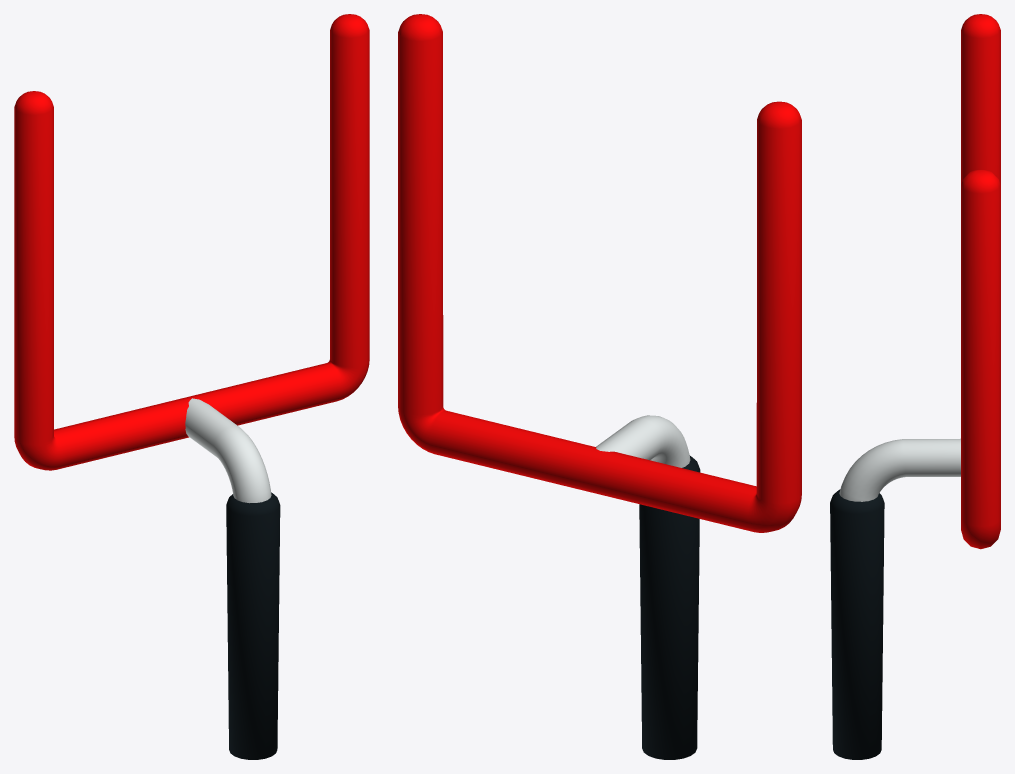
The model's file is SM_GoalPoast.fbx.
3 views of the same model, side by side, from view 1: azimuth 30°, elevation 25°; view 2: azimuth 150°, elevation 25°; view 3: azimuth 270°, elevation 25° (orthographic). The views are drawn at different scales.
Parts seen in each view (by area): view 1: SM_GoalPoast; view 2: SM_GoalPoast; view 3: SM_GoalPoast.
Boxes of the visible parts, bbox=[...] form: SM_GoalPoast: bbox=[14, 14, 369, 759]; SM_GoalPoast: bbox=[398, 14, 801, 759]; SM_GoalPoast: bbox=[830, 14, 1000, 759].
Size of the model in its own units: 327 by 583 by 137.
